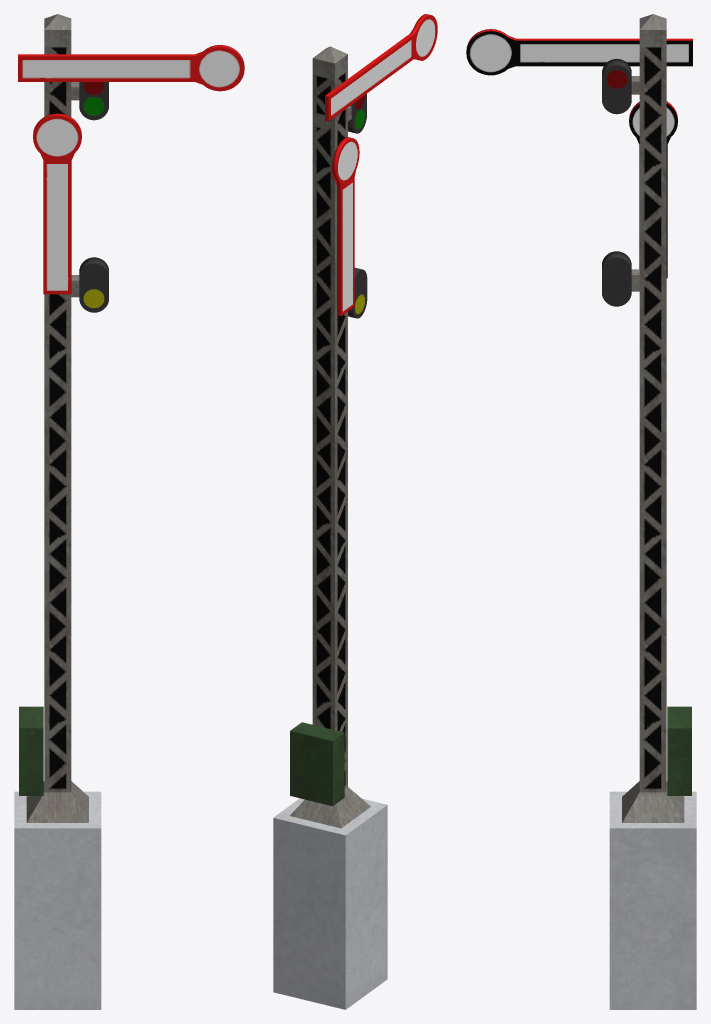
File: formsignal_hp.glb
3 views of the same model, side by side, from view 1: azimuth 90°, elevation 25°; view 2: azimuth 150°, elevation 25°; view 3: azimuth 270°, elevation 25° (orthographic). The views are drawn at different scales.
Visible parts, largest first — view 1: signalmast, flügel1, flügel2, licht2, licht1; view 2: signalmast, flügel1, flügel2, licht2, licht1; view 3: signalmast, flügel1, licht2, licht1, flügel2.
Boxes of the visible parts, <box> form: signalmast: <box>14,14,101,1009</box>; flügel1: <box>18,45,244,91</box>; flügel2: <box>33,113,81,294</box>; licht2: <box>79,257,108,312</box>; licht1: <box>79,82,108,120</box>; signalmast: <box>273,46,387,1009</box>; flügel1: <box>325,14,437,121</box>; flügel2: <box>332,137,359,316</box>; licht2: <box>348,267,367,318</box>; licht1: <box>348,94,366,133</box>; signalmast: <box>609,14,696,1009</box>; flügel1: <box>466,29,692,75</box>; licht2: <box>602,251,631,306</box>; licht1: <box>602,59,631,114</box>; flügel2: <box>629,101,677,278</box>.
Bounding box in the file's own units: 0.644 × 7.97 × 1.7.
Materials: 5 (5 with a texture image).
